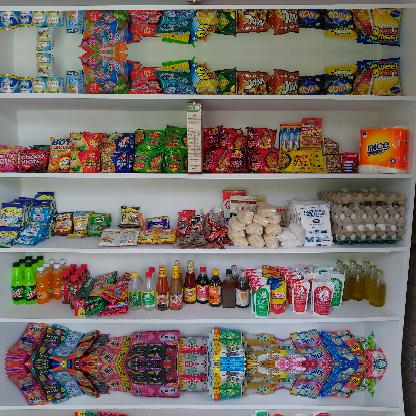Koko-Krunch: (186, 101, 202, 173)
